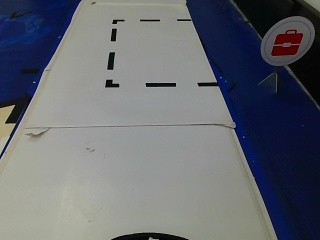company: (260, 16, 312, 65)
